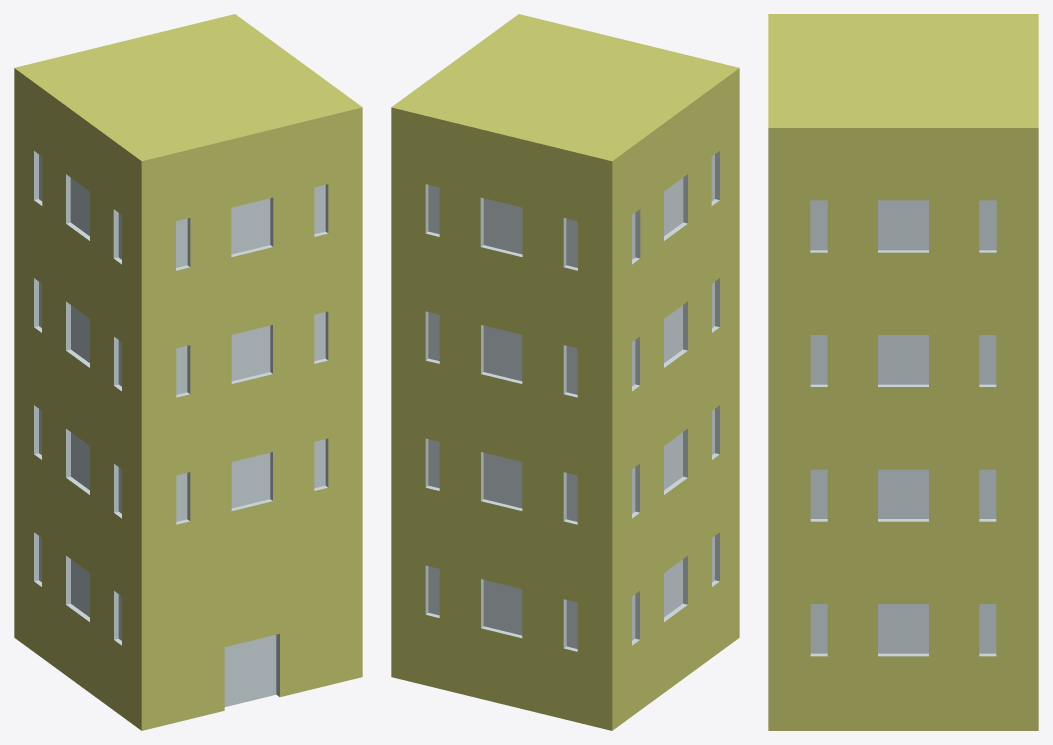
Rendered from BrickBuildingYellow.fbx.
3 renders of one model, left to right at view 1: azimuth 30°, elevation 25°; view 2: azimuth 150°, elevation 25°; view 3: azimuth 270°, elevation 25°, orthographic. The views are drawn at different scales.
Parts seen in each view (by area): view 1: BrickBuilding; view 2: BrickBuilding; view 3: BrickBuilding.
Part boxes in pixels (x1,y1,x2,y2): BrickBuilding: (14,14,362,730); BrickBuilding: (391,14,739,730); BrickBuilding: (768,14,1038,730).
Bounding box in the file's own units: 1277 × 3145 × 1277.
